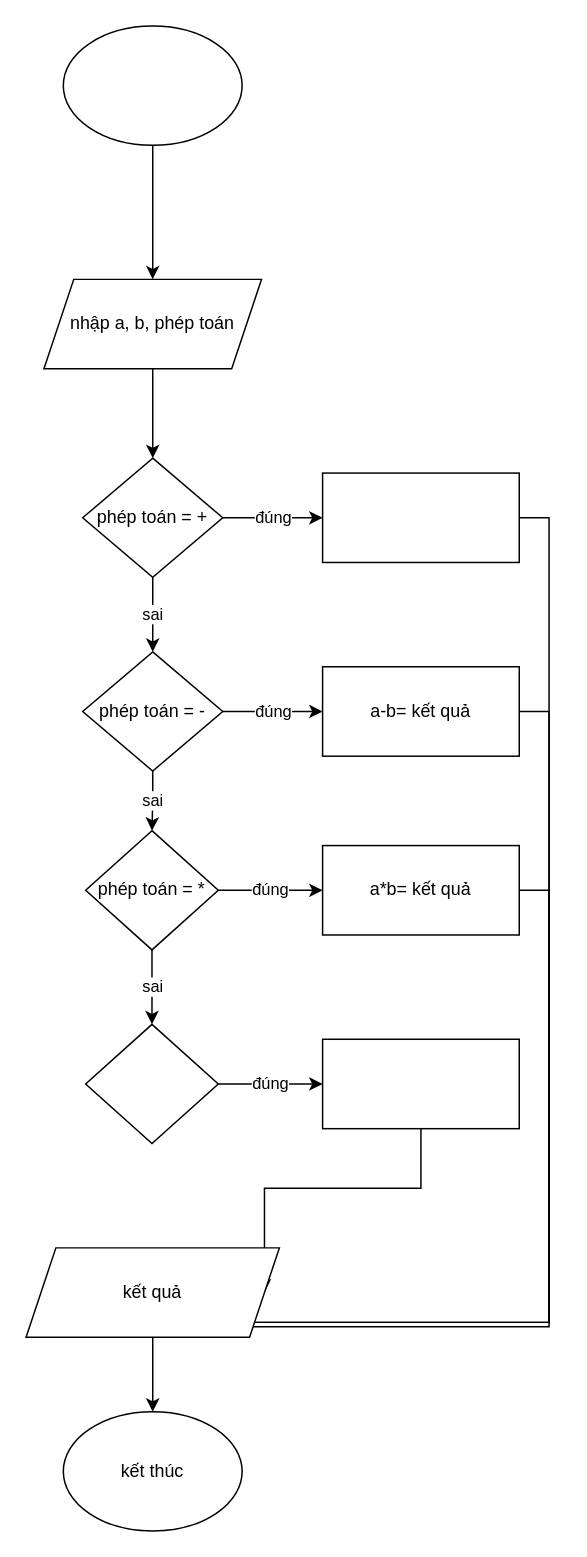
Image size: 587x1557. Some labels were removed from this diagram. Here are the shapes that lost their labels. From the top down, the box of each, then its label:
(62, 25, 242, 145): bắt đầu
(321, 472, 519, 562): a+b= kết quả
(84, 1023, 218, 1144): phép toán = /
(321, 1038, 519, 1129): a/b+ kết quả
